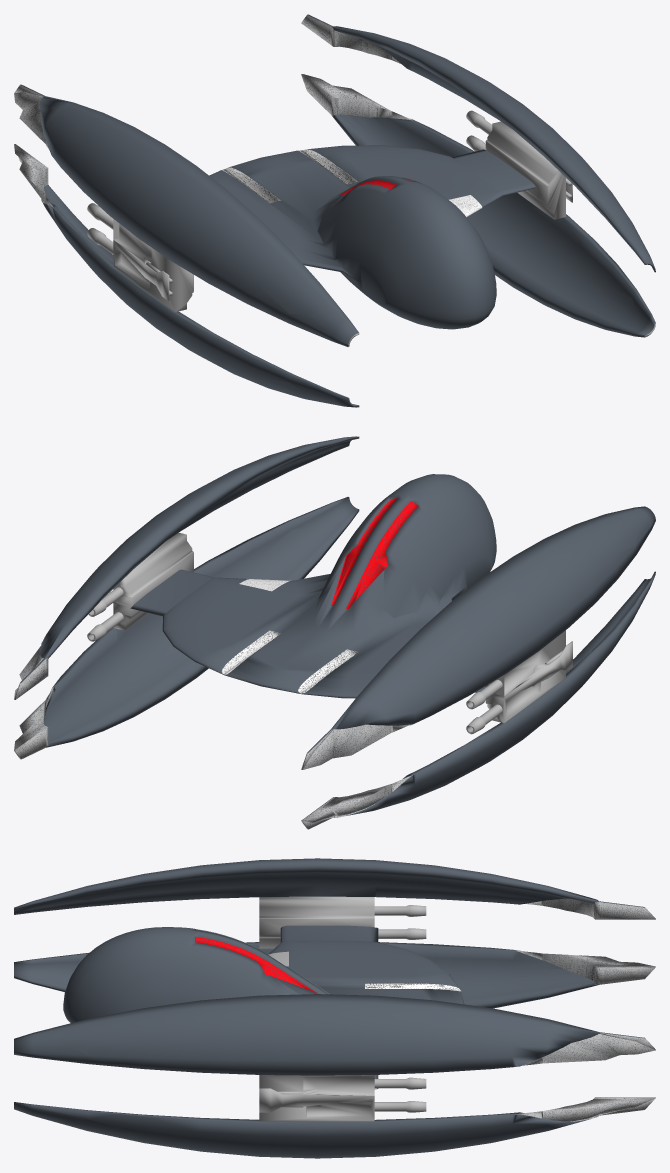
3 views of the same model, one above another, from view 1: azimuth 30°, elevation 25°; view 2: azimuth 150°, elevation 25°; view 3: azimuth 270°, elevation 25° (orthographic). The views are drawn at different scales.
Visible parts, largest first — view 1: Componente_1 (×13); view 2: Componente_1 (×16); view 3: Componente_1 (×17).
Boxes of the visible parts, x1,y1,x2,y2 form: Componente_1 (×13): [14, 14, 655, 407]; Componente_1 (×16): [14, 436, 655, 829]; Componente_1 (×17): [14, 858, 655, 1158].
Bounding box in the file's own units: 266 × 392 × 107.
